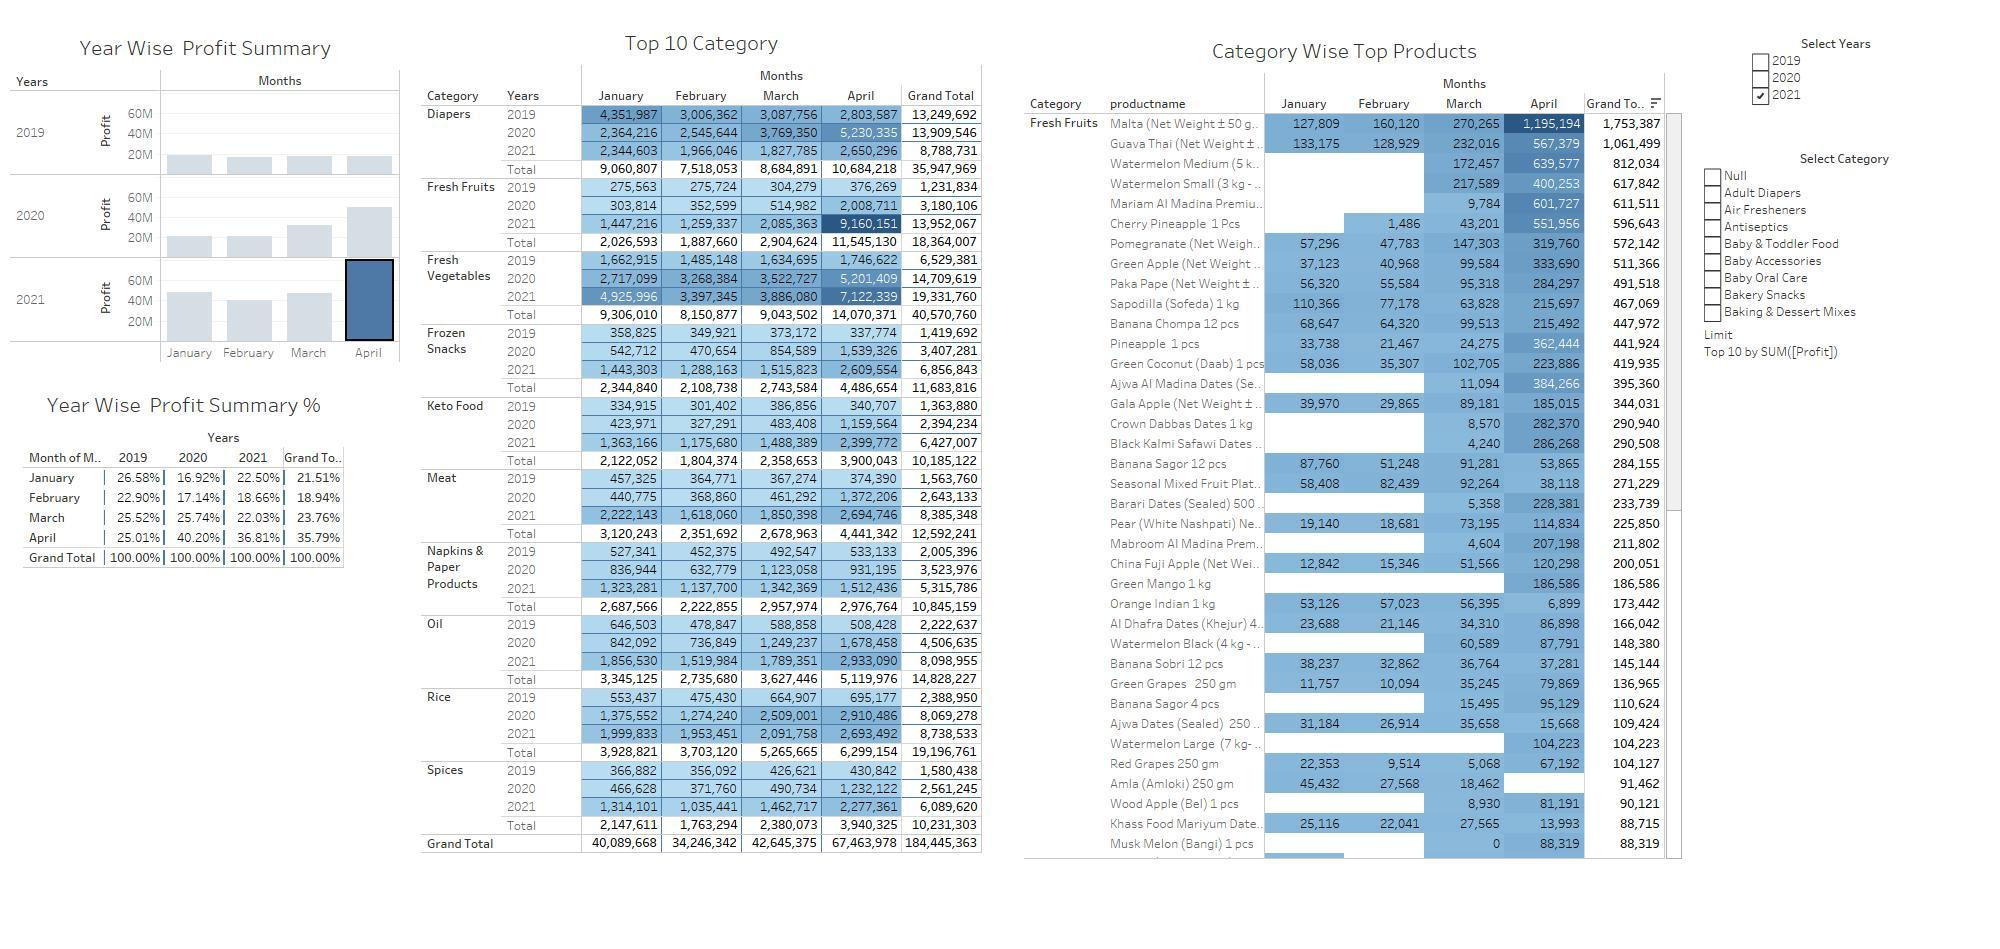

What the dashboard file says about the page in this screenshot:
{"tool":"tableau","page":{"name":"Category_Product","canvas":[2000,1500],"ordinal":0},"visuals":[{"type":"worksheet","box":[8,8,1984,1484]},{"type":"worksheet","title":"Category","mark":"Square","rows":["Category","Years"],"cols":["Months"],"box":[421,21.6,592,830.6]},{"type":"worksheet","title":"Summary_Cat","mark":"Bar","rows":["Years","Profit"],"cols":["Months"],"box":[10,27.2,390,335.6]},{"type":"worksheet","title":"Product","mark":"Square","rows":["Category","name"],"cols":["Months"],"box":[1024,30,666,828.8]},{"type":"filter","title":"Product","param":"[sqlproxy.0a5jd081koioqn1eml3at0pp76y3].[none:Years:ok]","box":[1752,33.8,168,105.9]},{"type":"filter","title":"Product","param":"[sqlproxy.0a5jd081koioqn1eml3at0pp76y3].[none:Category:nk]","box":[1704,149.1,281,214.7]},{"type":"worksheet","title":"Summary_Cat (2)","mark":"Bar","rows":["Months"],"cols":["Years"],"box":[23,384.4,367,194.1]}]}

Visuals, with their boxes on the page's 2000x1500 design canvas (x1, y1, x2, y2). These are canvas units, not pixel positions in the 2000x949 screenshot, which may show the page scaled, cropped or inside an application window:
worksheet: 8 8 1992 1492
"Category" worksheet (Square marks): 421 22 1013 852
"Summary_Cat" worksheet (Bar marks): 10 27 400 363
"Product" worksheet (Square marks): 1024 30 1690 859
"Product" filter: 1752 34 1920 140
"Product" filter: 1704 149 1985 364
"Summary_Cat (2)" worksheet (Bar marks): 23 384 390 578
